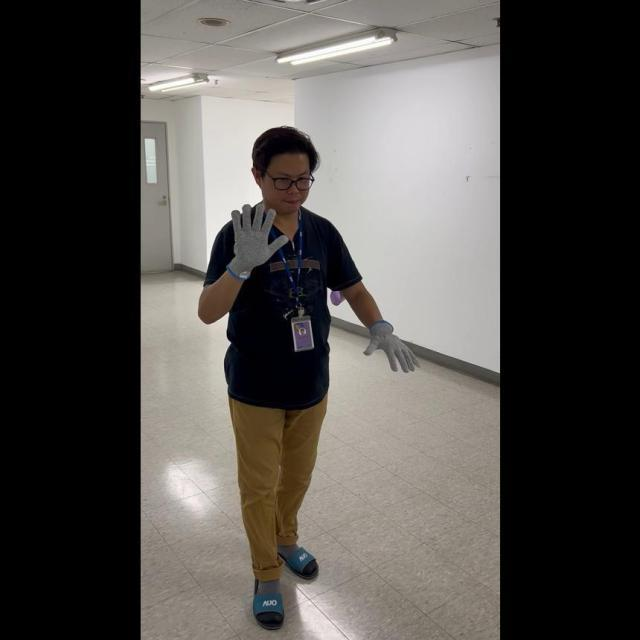gloved_hand: (222, 201, 286, 280), (361, 317, 416, 375)
